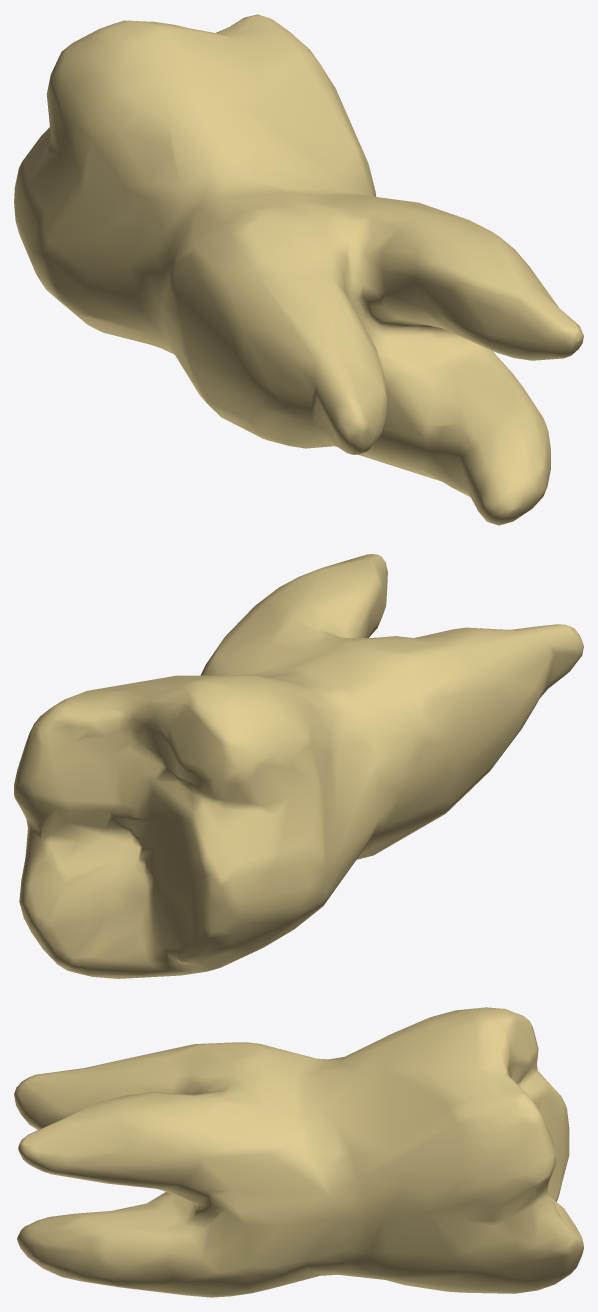
The picture shows the model from 3 angles, top to bottom: view 1: azimuth 30°, elevation 25°; view 2: azimuth 150°, elevation 25°; view 3: azimuth 270°, elevation 25°; orthographic projection. The views are drawn at different scales.
Visible parts, largest first — view 1: 左侧上颌第一磨牙; view 2: 左侧上颌第一磨牙; view 3: 左侧上颌第一磨牙.
Boxes of the visible parts, box(x1,y1,x2,y2) form: 左侧上颌第一磨牙: box(14, 14, 583, 525); 左侧上颌第一磨牙: box(14, 554, 583, 978); 左侧上颌第一磨牙: box(14, 1007, 583, 1297).
Size of the model in its own units: 0.0167 by 0.0166 by 0.0353.
